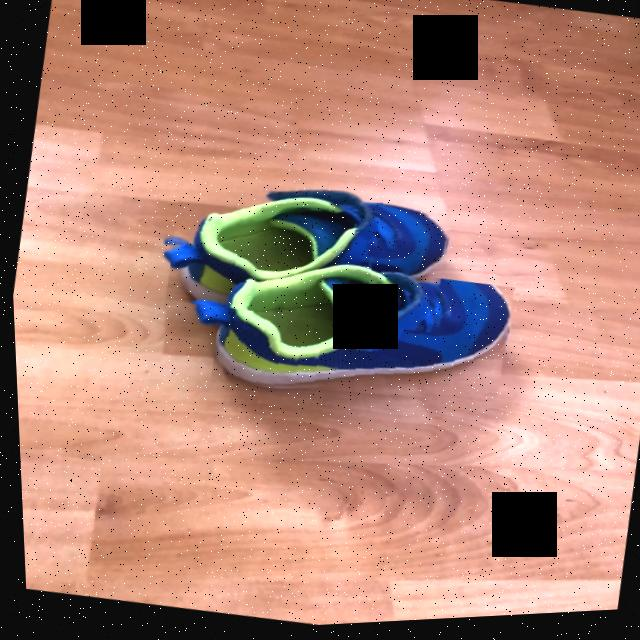shoe: (210, 266, 507, 391), (168, 194, 445, 320)
